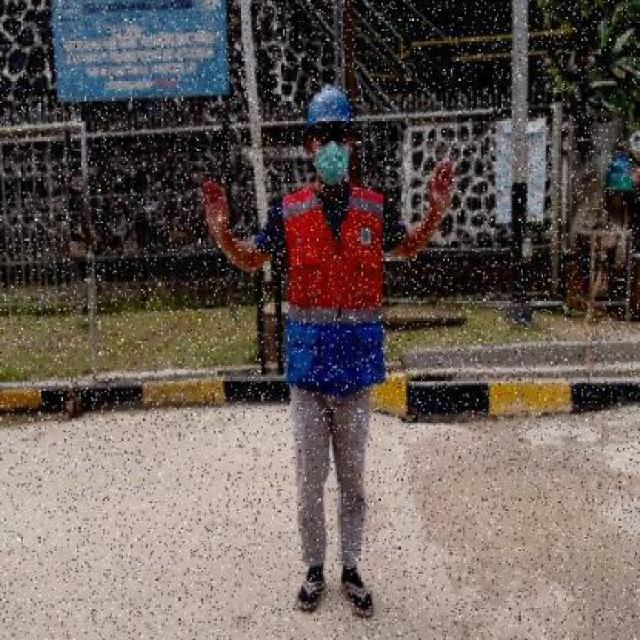Helmet: (302, 81, 355, 133)
Mask: (312, 143, 352, 188)
